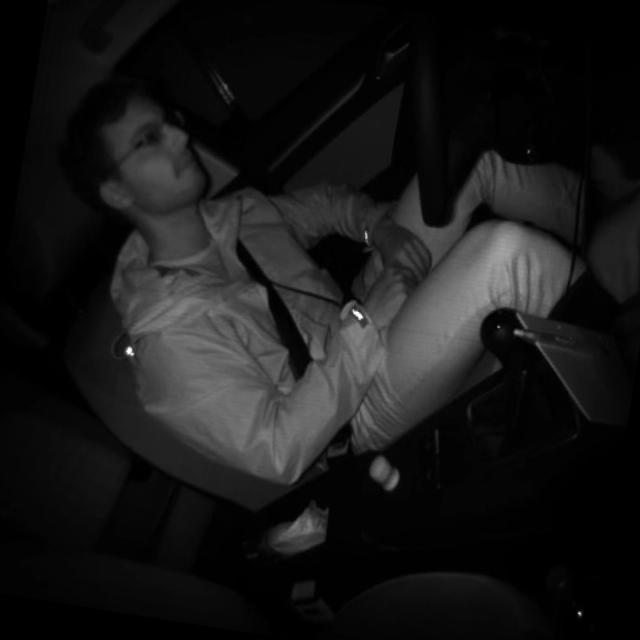pen: (513, 327, 613, 353)
